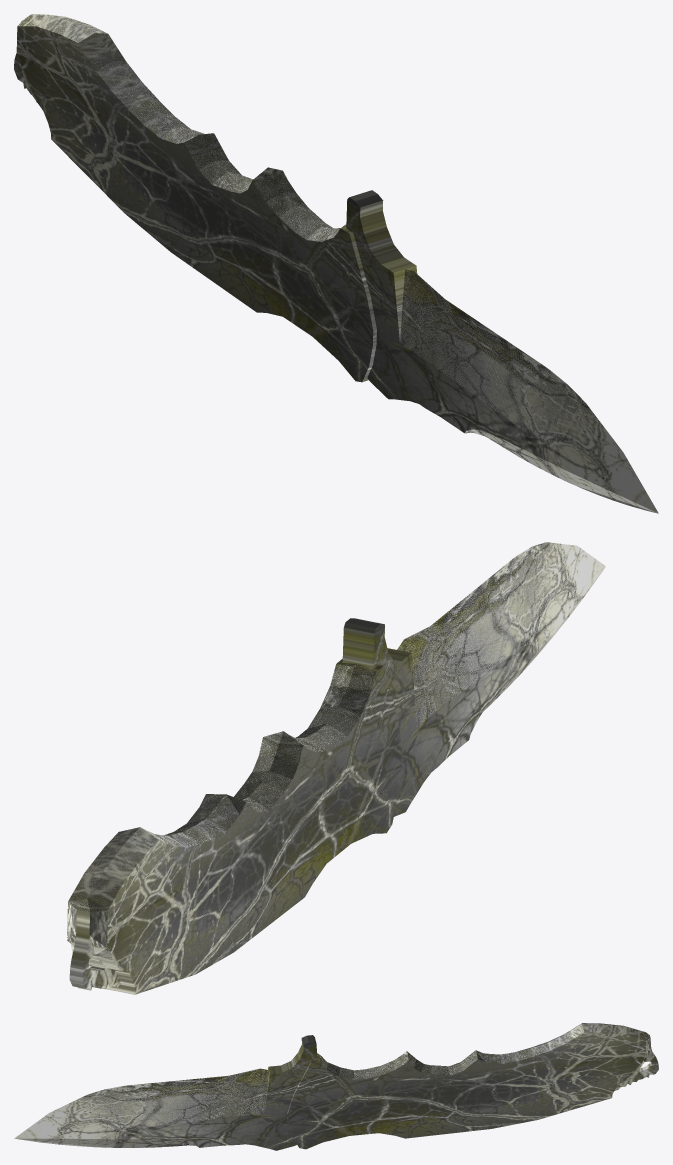
Rendered from model_align.obj.
3 renders of one model, top to bottom at view 1: azimuth 30°, elevation 25°; view 2: azimuth 150°, elevation 25°; view 3: azimuth 270°, elevation 25°, orthographic. The views are drawn at different scales.
Visible parts, largest first — view 1: mesh1_mesh1-geometry, mesh2_mesh2-geometry; view 2: mesh1_mesh1-geometry, mesh2_mesh2-geometry; view 3: mesh2_mesh2-geometry, mesh1_mesh1-geometry.
Boxes of the visible parts, box(x1,y1,x2,y2) form: mesh1_mesh1-geometry: box(14, 14, 658, 513); mesh2_mesh2-geometry: box(51, 15, 540, 468); mesh1_mesh1-geometry: box(76, 542, 605, 994); mesh2_mesh2-geometry: box(67, 618, 511, 990); mesh2_mesh2-geometry: box(14, 1024, 658, 1150); mesh1_mesh1-geometry: box(15, 1023, 657, 1147).
Bounding box in the file's own units: 0.0251 × 0.04 × 0.2128.
